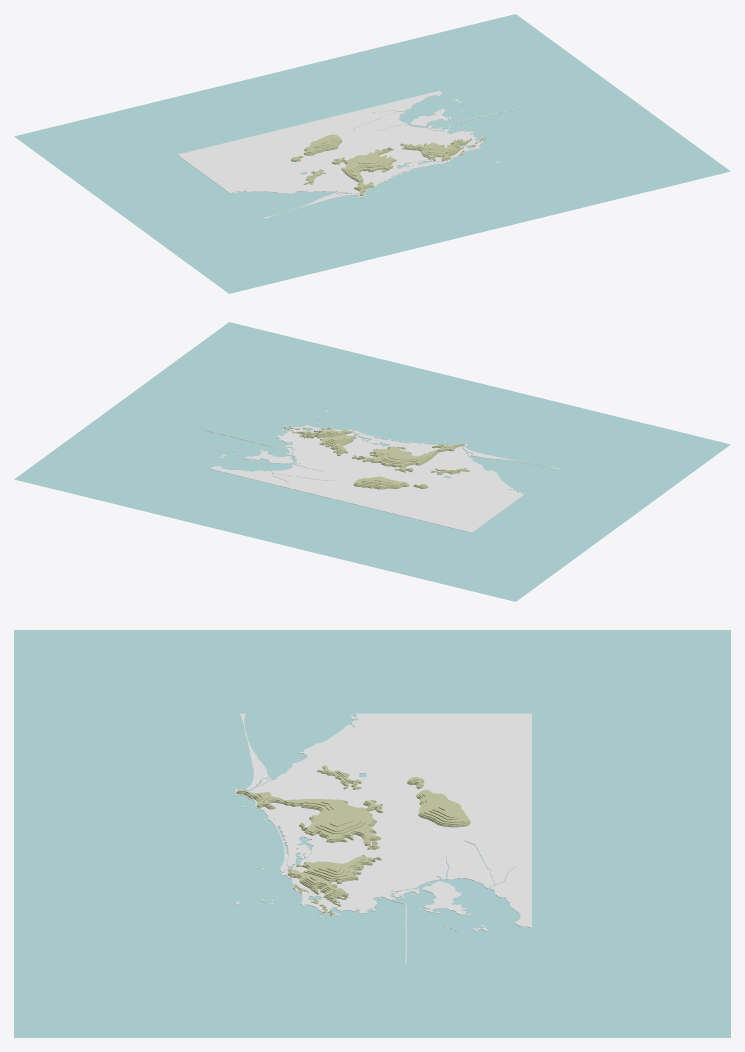
3 renders of one model, top to bottom at view 1: azimuth 30°, elevation 25°; view 2: azimuth 150°, elevation 25°; view 3: azimuth 270°, elevation 25°, orthographic. The views are drawn at different scales.
Parts seen in each view (by area): view 1: base_final; view 2: base_final; view 3: base_final.
Part boxes in pixels (bbox=[...]): base_final: bbox=[14, 14, 730, 293]; base_final: bbox=[14, 322, 730, 601]; base_final: bbox=[14, 630, 730, 1037].
Bounding box in the file's own units: 24.26 × 0.15 × 18.02.
